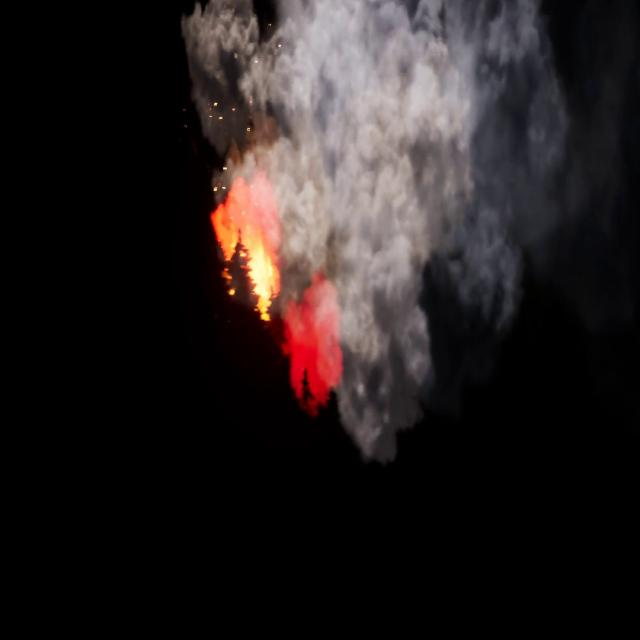fire: (207, 168, 282, 314), (281, 268, 346, 417)
smoke: (181, 0, 595, 467)
